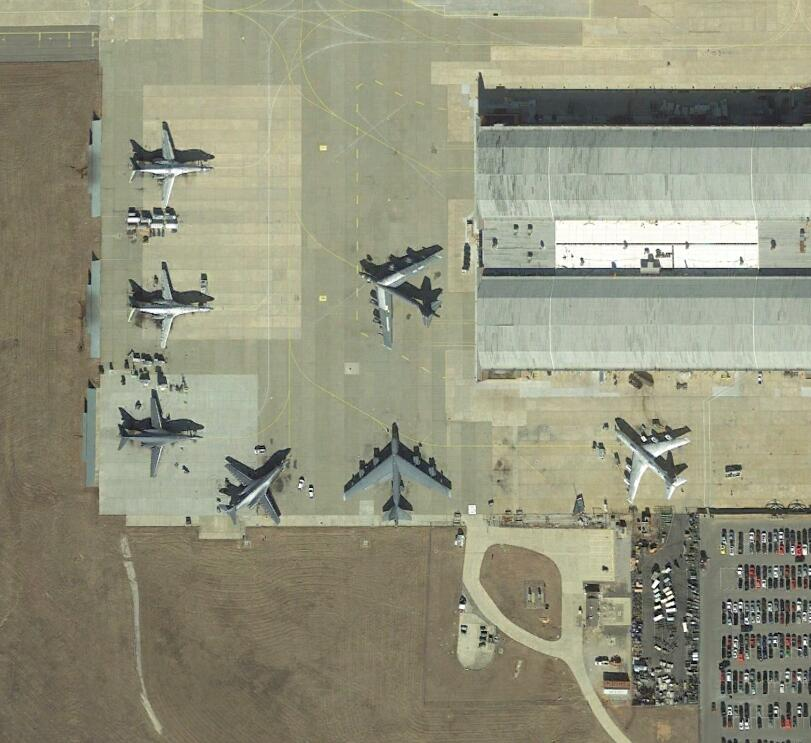A10: (126, 266, 212, 352), (130, 126, 213, 212), (119, 394, 200, 478), (217, 455, 288, 523)
A11: (611, 425, 692, 502)
A8: (343, 430, 454, 526), (358, 244, 446, 352)
